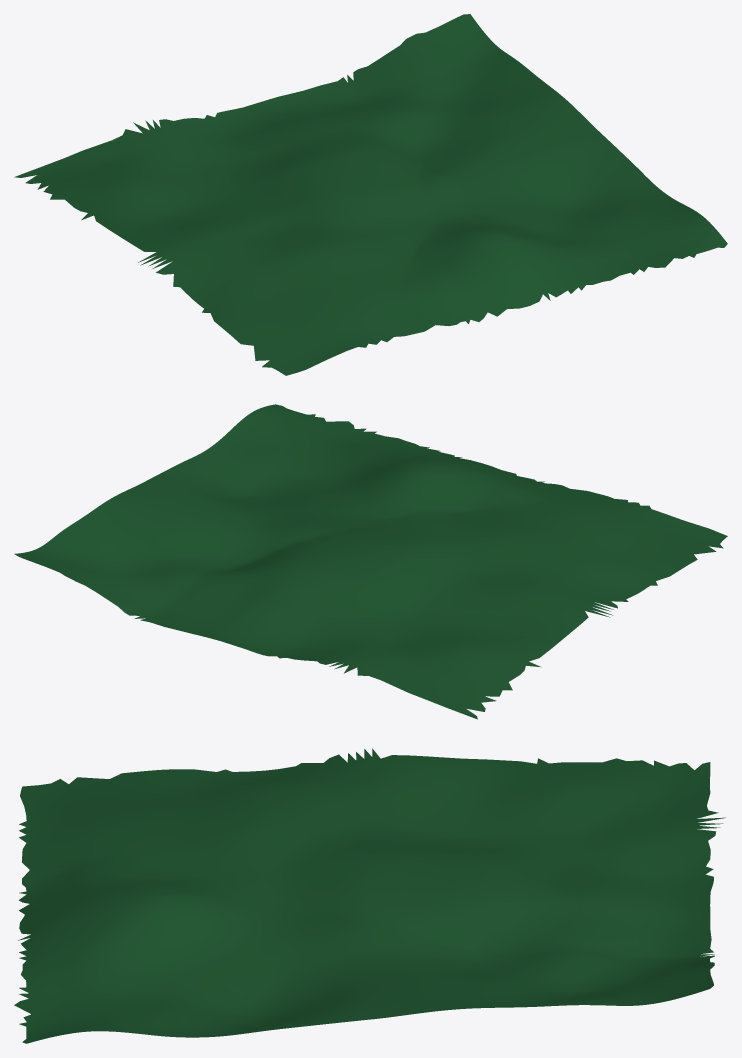
Rendered from payo_land_x3_y0.glb.
The picture shows the model from 3 angles, top to bottom: view 1: azimuth 30°, elevation 25°; view 2: azimuth 150°, elevation 25°; view 3: azimuth 270°, elevation 25°; orthographic projection. The views are drawn at different scales.
Parts seen in each view (by area): view 1: payo_land_x3_y0; view 2: payo_land_x3_y0; view 3: payo_land_x3_y0.
Part boxes in pixels (box(x1,y1,x2,y2)): payo_land_x3_y0: box(14, 14, 727, 375); payo_land_x3_y0: box(14, 404, 727, 719); payo_land_x3_y0: box(14, 748, 725, 1043).
Bounding box in the file's own units: 264 × 34.98 × 266.
